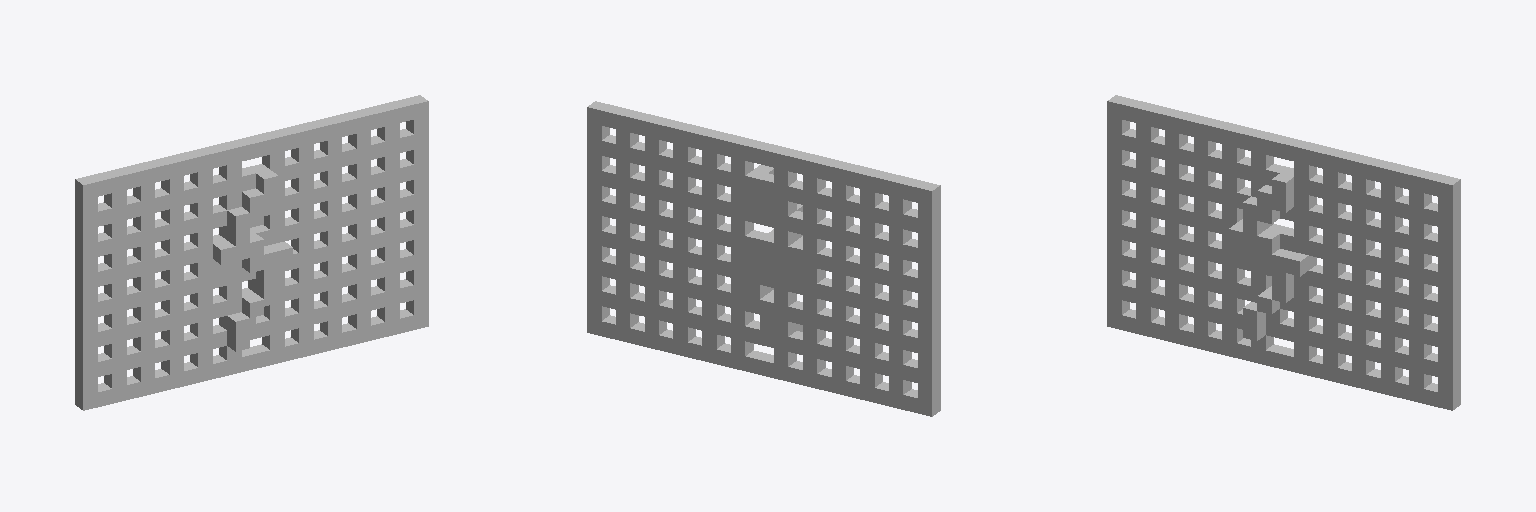
File: electric_entanglement.obj
The picture shows the model from 3 angles: view 1: azimuth 30°, elevation 25°; view 2: azimuth 150°, elevation 25°; view 3: azimuth 330°, elevation 25°; orthographic projection.
Visible parts, largest first — view 1: electric_entanglement; view 2: electric_entanglement; view 3: electric_entanglement.
Part boxes in pixels (bbox=[...]): electric_entanglement: bbox=[75, 95, 428, 410]; electric_entanglement: bbox=[587, 101, 940, 416]; electric_entanglement: bbox=[1107, 95, 1460, 410].
Bounding box in the file's own units: 24 × 15 × 2.